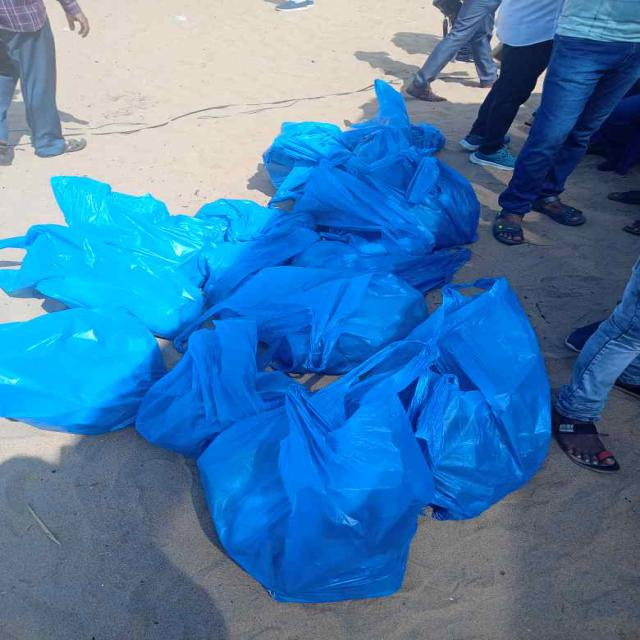nhua: (1, 80, 551, 603)
